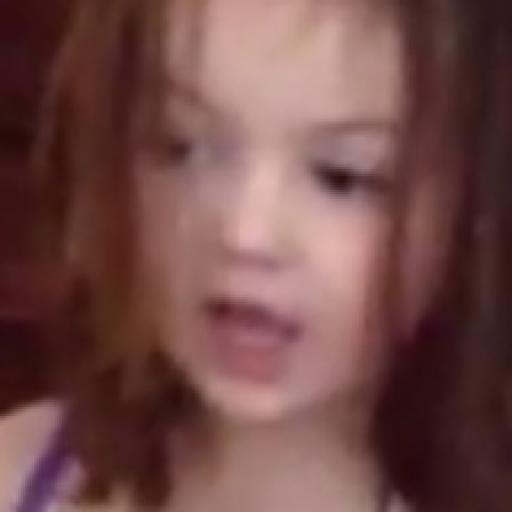Autism: (74, 5, 503, 439)
